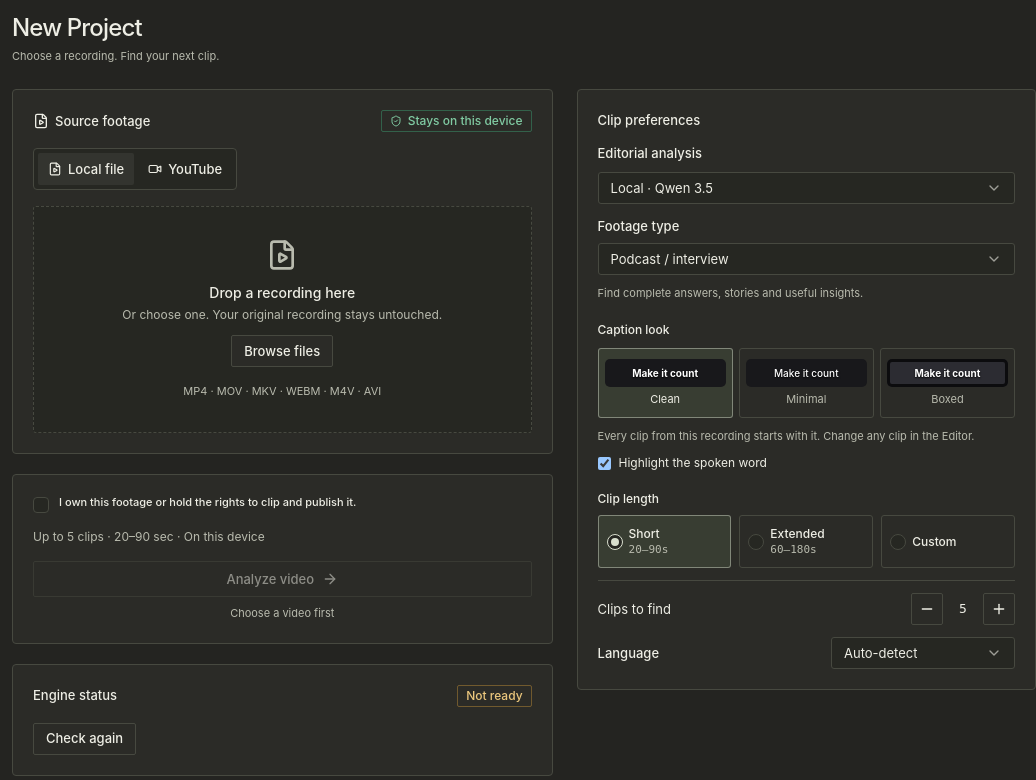
Scenario: the New Project screen › shows the whole path, middle-truncated so the name survives
Click the button "Browse files" at (282, 351), box x1=231 y1=335 x2=333 y2=367
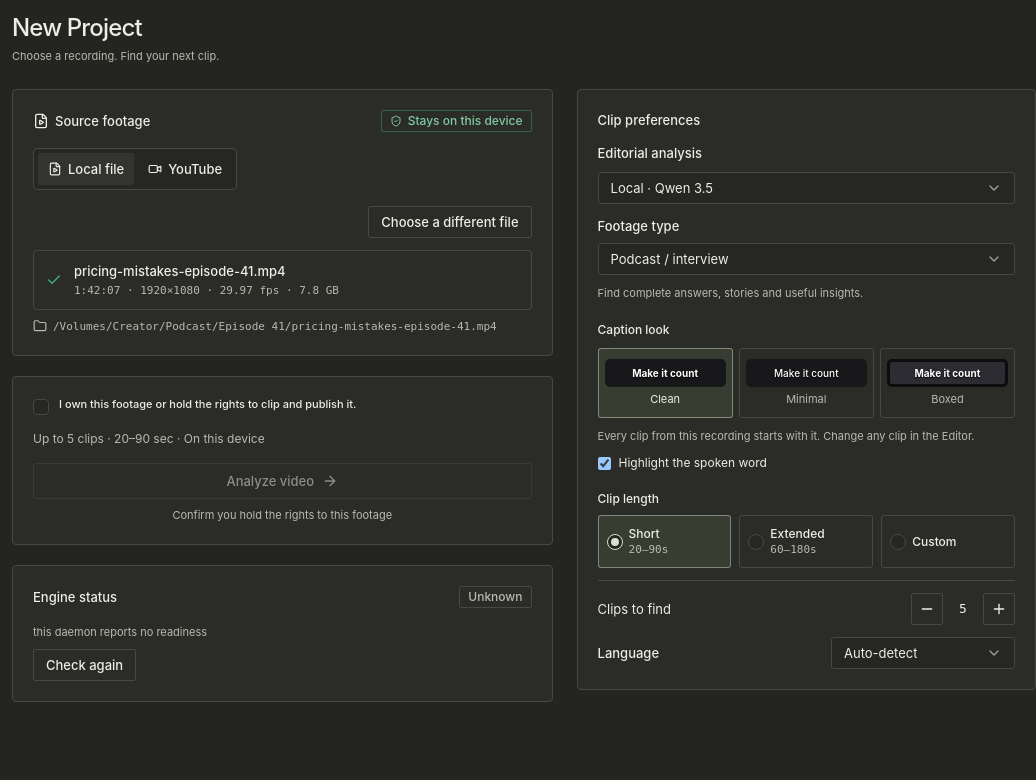
Expected: the text "pricing-mistakes-episode-41.mp4" is shown, x1=74 y1=263 x2=286 y2=279
